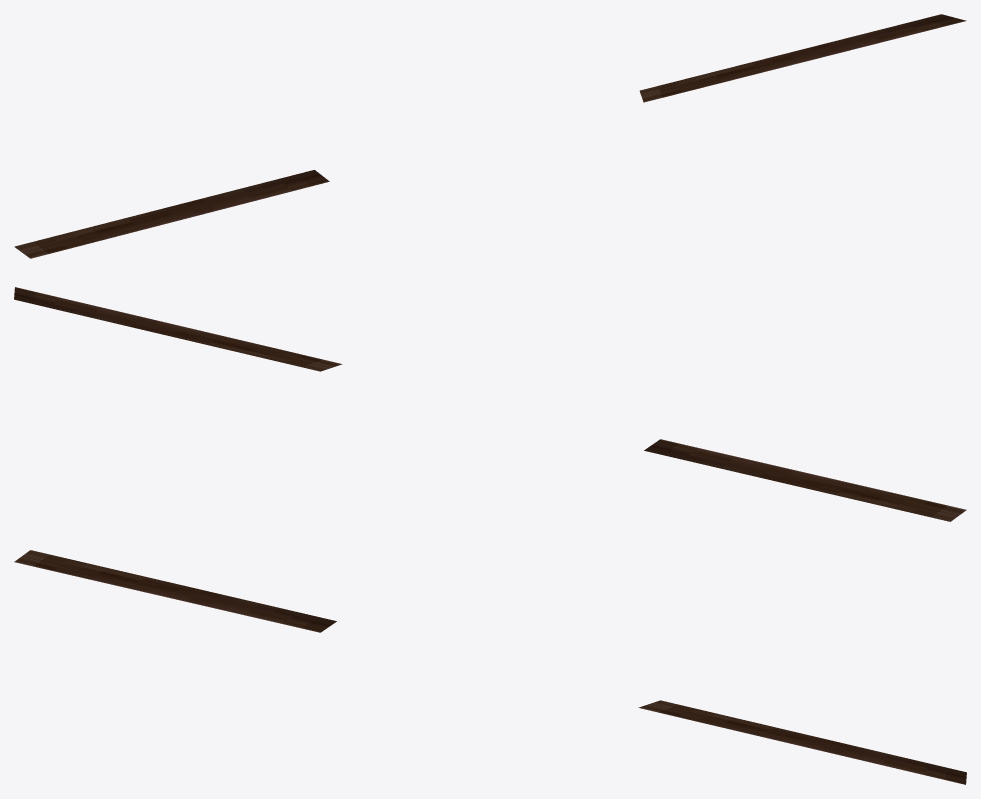
Rendered from pir_m_prp_fnc_woodGate_footprint.fbx.
The picture shows the model from 3 angles, top to bottom: view 1: azimuth 30°, elevation 25°; view 2: azimuth 150°, elevation 25°; view 3: azimuth 330°, elevation 25°; orthographic projection.
Visible parts, largest first — view 1: footprint; view 2: footprint; view 3: footprint.
Part boxes in pixels (x1,y1,x2,y2): footprint: (14,14,966,258); footprint: (14,287,966,521); footprint: (14,550,966,784).
Size of the model in its own units: 2324 by 1.59e-05 by 97.42.
Materials: 1 (1 with a texture image).
